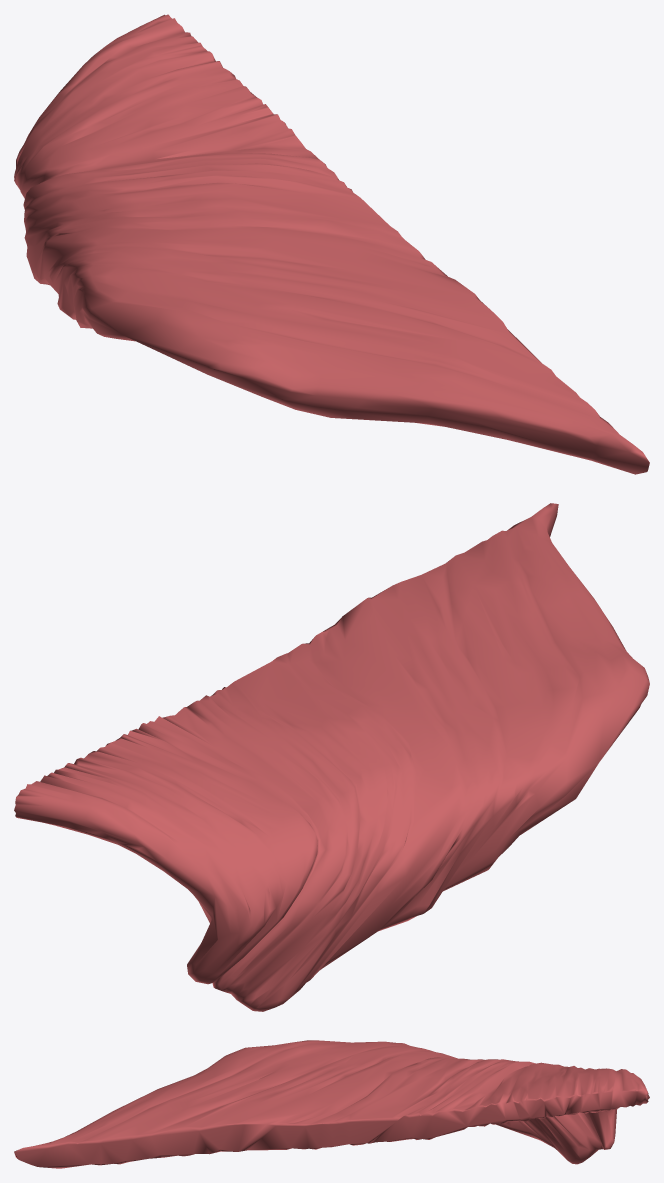
3 renders of one model, top to bottom at view 1: azimuth 30°, elevation 25°; view 2: azimuth 150°, elevation 25°; view 3: azimuth 270°, elevation 25°, orthographic. The views are drawn at different scales.
Visible parts, largest first — view 1: 右侧咽下缩肌; view 2: 右侧咽下缩肌; view 3: 右侧咽下缩肌.
Part boxes in pixels (x1,y1,x2,y2): 右侧咽下缩肌: [14, 14, 649, 474]; 右侧咽下缩肌: [14, 503, 649, 1011]; 右侧咽下缩肌: [14, 1040, 649, 1168].
Size of the model in its own units: 0.0324 by 0.0211 by 0.0959.
